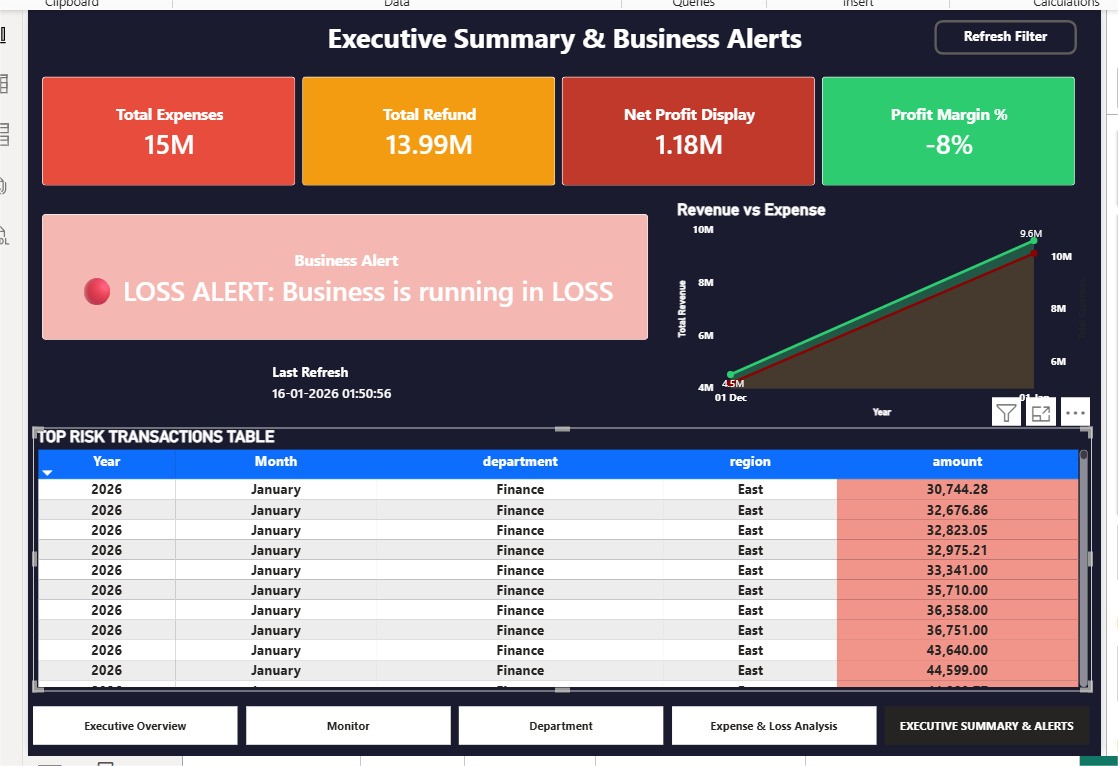

Layout of this report page (visuals, bound fields, positions):
{"tool":"powerbi","page":{"name":"EXECUTIVE SUMMARY & ALERTS","canvas":[1280,890],"ordinal":4},"visuals":[{"type":"shape","box":[0,0,1280.3,63.1],"z":0},{"type":"cardVisual","fields":{"Data":["financial_transactions.Total Expenses","financial_transactions.Total Refund","financial_transactions.Net Profit Display","financial_transactions.Profit Margin %"]},"box":[0,62.6,1269.1,164],"z":1000},{"type":"pageNavigator","box":[6,839.6,1263.1,37.3],"z":2000},{"type":"actionButton","box":[1081.8,12.1,170.2,41.6],"z":3000},{"type":"cardVisual","fields":{"Data":["financial_transactions.Last Refresh"]},"box":[262.5,407.1,208.8,73.1],"z":4000},{"type":"lineChart","title":"Revenue vs Expense","fields":{"Y":["financial_transactions.Total Revenue"],"Y2":["financial_transactions.Total Expenses"],"Category":["financial_transactions.transaction_time.Variation.Date Hierarchy.Year","financial_transactions.transaction_time.Variation.Date Hierarchy.Month"]},"box":[769.5,226.7,499.6,264],"z":11000},{"type":"tableEx","title":"TOP RISK TRANSACTIONS TABLE","fields":{"Values":["financial_transactions.transaction_time.Variation.Date Hierarchy.Year","financial_transactions.transaction_time.Variation.Date Hierarchy.Month","financial_transactions.department","financial_transactions.region","financial_transactions.amount"]},"box":[6,498.1,1263.1,314.7],"z":12000},{"type":"cardVisual","fields":{"Data":["financial_transactions.Business Alert"]},"box":[0,226.7,757.6,184.9],"z":12002}]}

Visuals, with their boxes in screenshot pixels (x1, y1, x2, y2):
shape: 23 0 1110 45
cardVisual - financial_transactions.Total Expenses x financial_transactions.Total Refund: 23 44 1100 184
pageNavigator: 28 704 1100 735
actionButton: 941 2 1086 37
cardVisual - financial_transactions.Last Refresh: 246 337 423 399
"Revenue vs Expense" lineChart: 676 184 1100 408
"TOP RISK TRANSACTIONS TABLE" tableEx: 28 414 1100 681
cardVisual - financial_transactions.Business Alert: 23 184 666 340
